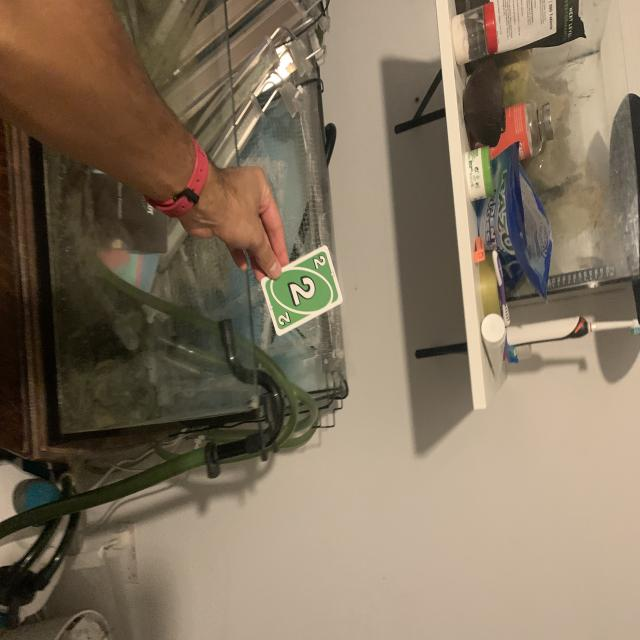lgreen-2: (310, 251, 329, 273)
